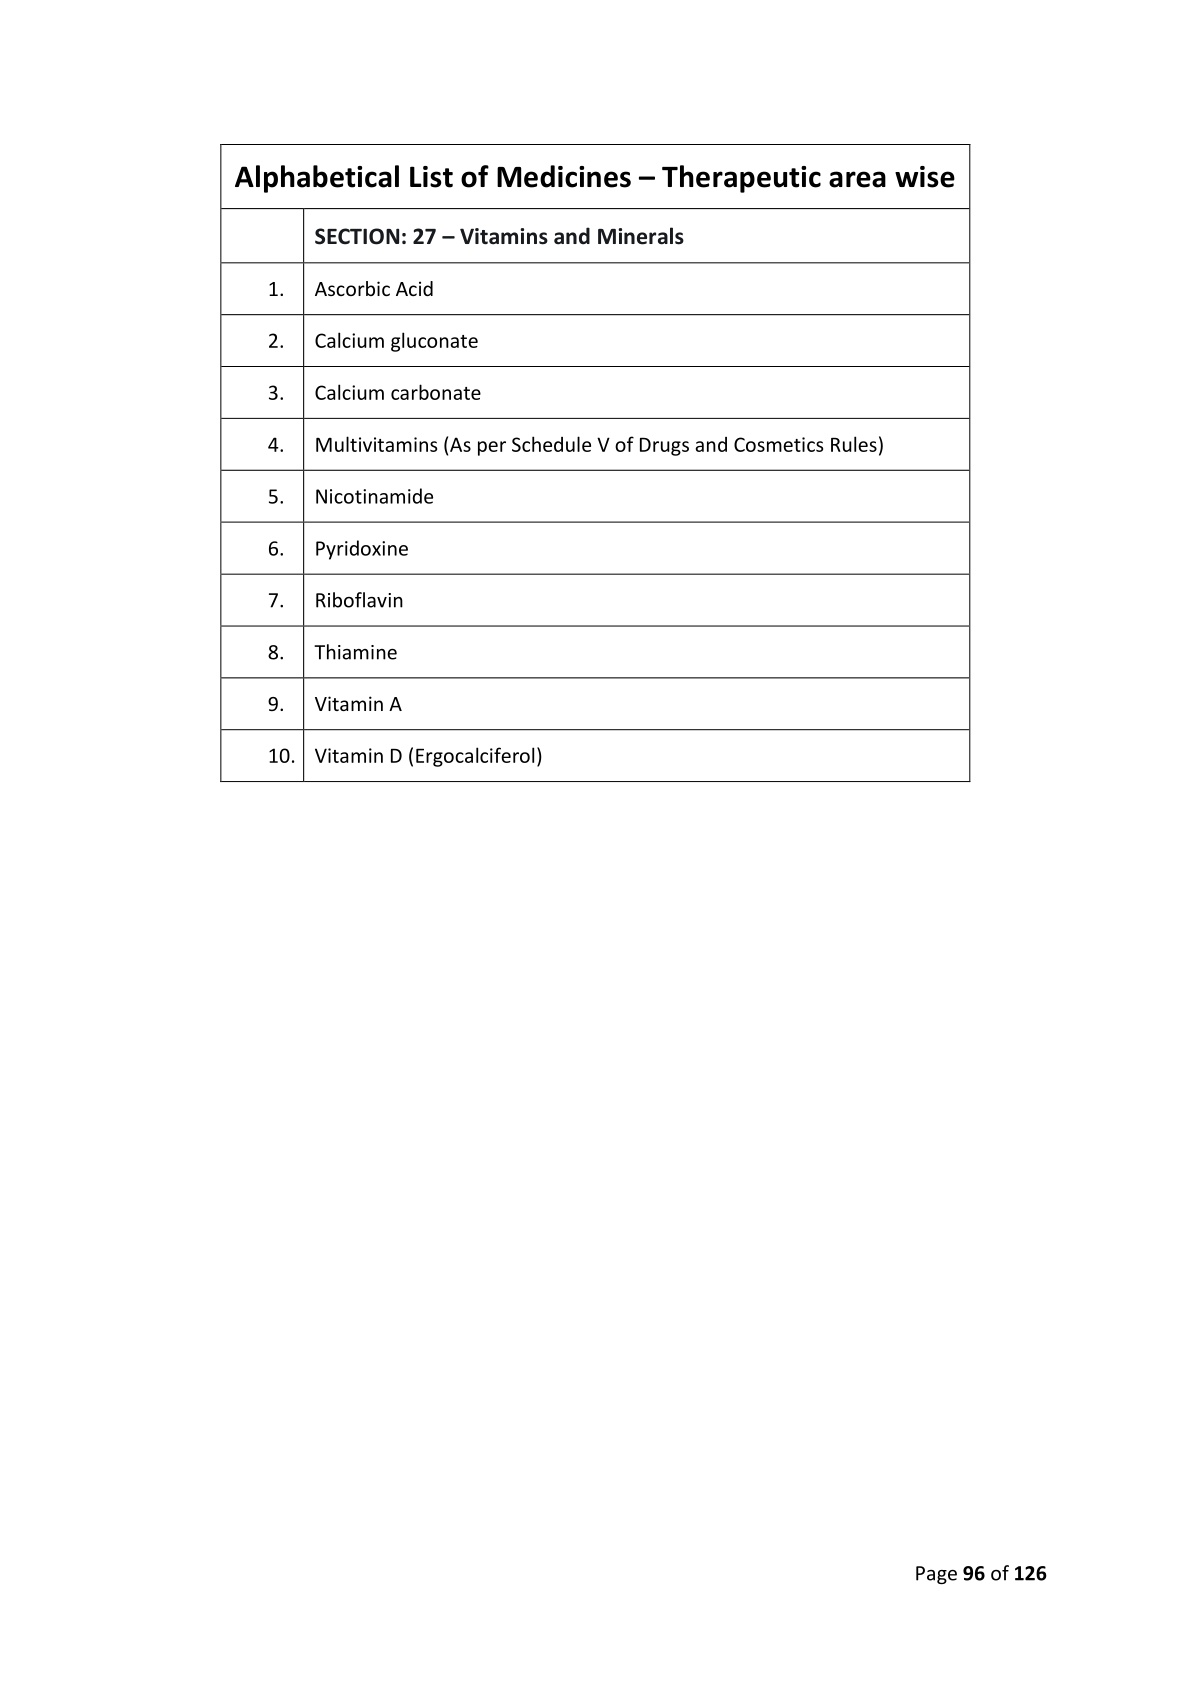merged_cells: (219, 142, 972, 783)
